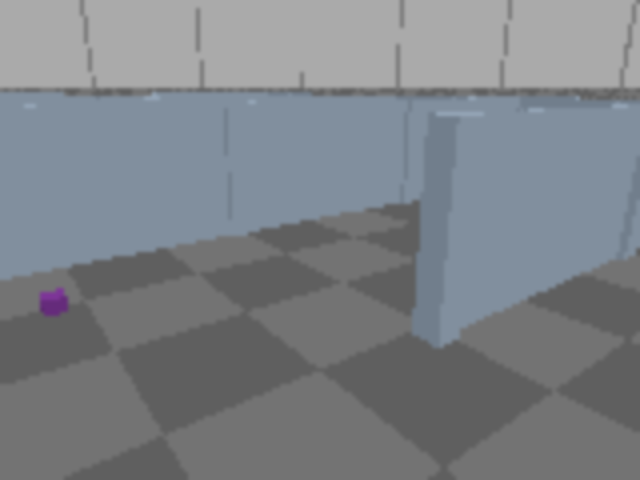puck: (37, 289, 69, 318)
